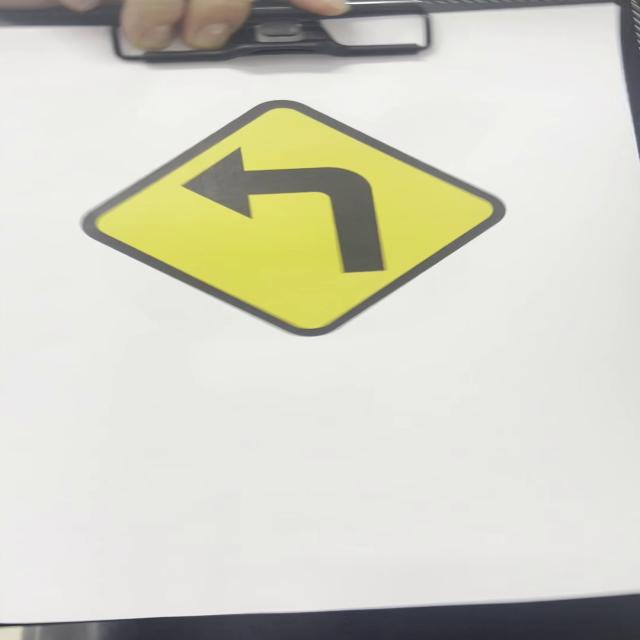left: (77, 100, 509, 337)
